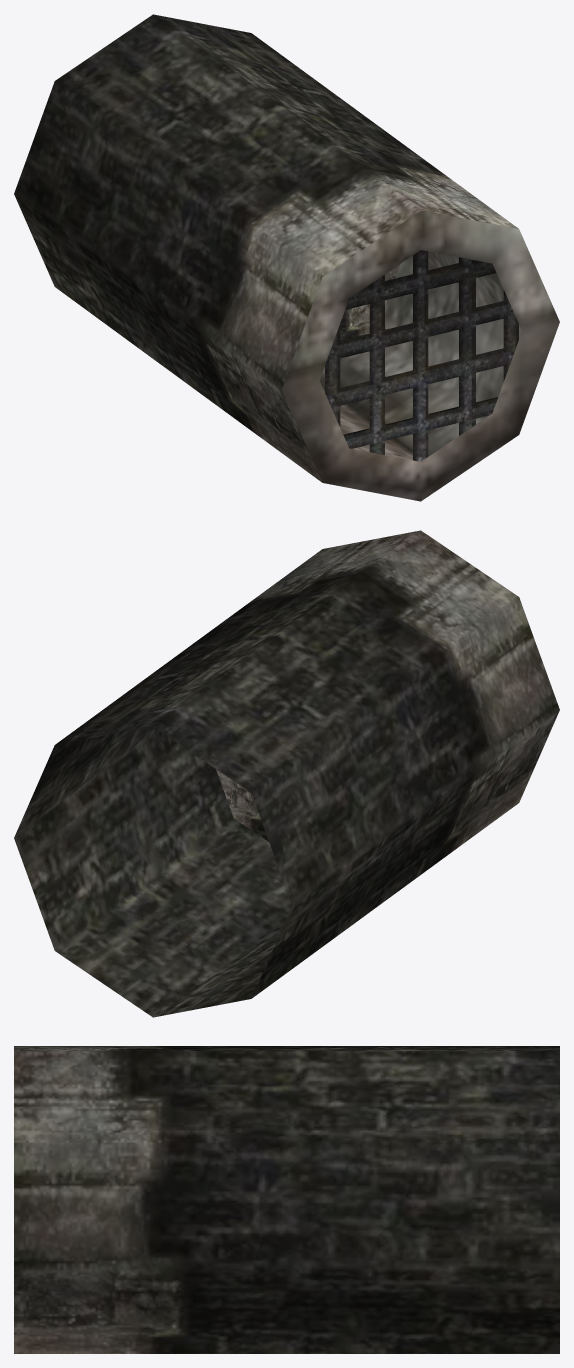
The model's file is OC_LOB_WASTER.glb.
The picture shows the model from 3 angles, top to bottom: view 1: azimuth 30°, elevation 25°; view 2: azimuth 150°, elevation 25°; view 3: azimuth 270°, elevation 25°; orthographic projection.
Parts seen in each view (by area): view 1: Mesh; view 2: Mesh; view 3: Mesh.
Part boxes in pixels (x1,y1,x2,y2): Mesh: (14, 14, 559, 501); Mesh: (14, 530, 559, 1017); Mesh: (14, 1046, 559, 1353).
Size of the model in its own units: 1.2 by 1.2 by 2.
Materials: 2 (2 with a texture image).
